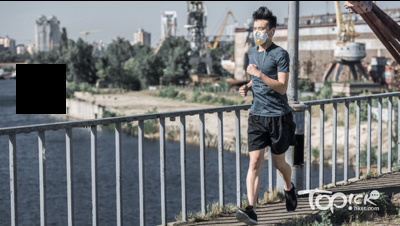with_mask: (251, 22, 270, 44)
